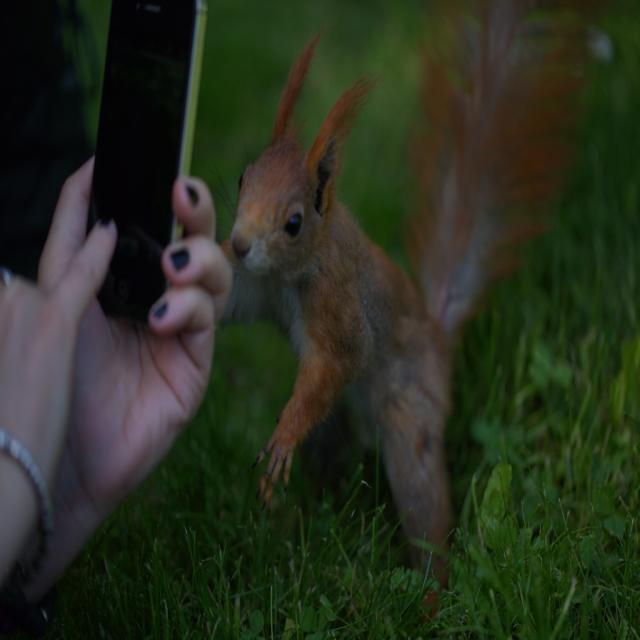Mobile-phone: (71, 25, 193, 399)
